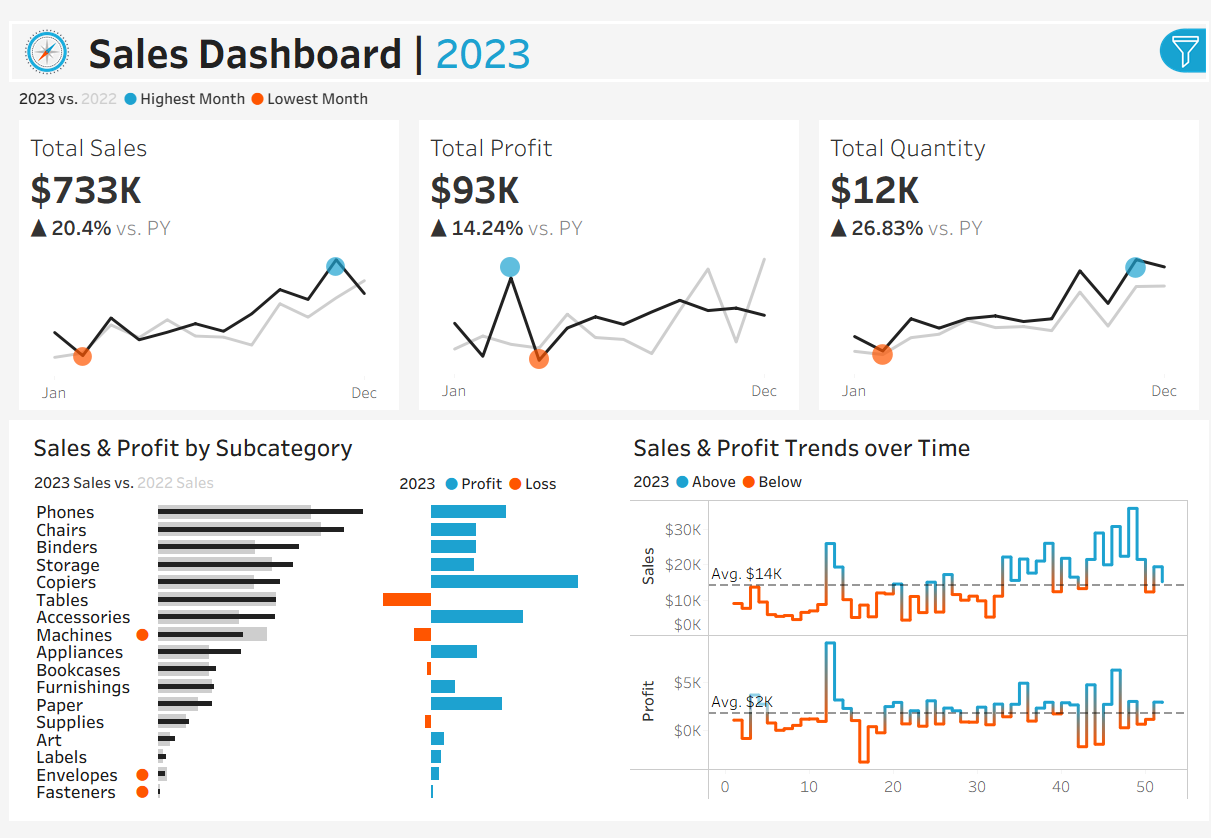

What the dashboard file says about the page in this screenshot:
{"tool":"tableau","page":{"name":"Sales Dashboard","canvas":[1200,800],"ordinal":0},"visuals":[{"type":"image","param":"C:/Users/chira/OneDrive/Desktop/PROJECT/Tableau Projects/sales-dashboard-project","box":[3,3,69,55]},{"type":"text","box":[72,3,826,55]},{"type":"text","box":[934,10,255,85]},{"type":"worksheet","title":"Legend KPI","mark":"Automatic","box":[0,61,1200,38]},{"type":"parameter","param":"[Parameters].[Parameter 1]","box":[934,95,255,56]},{"type":"worksheet","title":"KPI Sales","mark":"Automatic","rows":["Calculation_1053366693937157"],"cols":["Order Date"],"box":[0,99,400,300]},{"type":"worksheet","title":"KPI Profit","mark":"Automatic","rows":["Min/Max Sales (copy)_1150673809801222"],"cols":["Order Date"],"box":[400,99,400,300]},{"type":"worksheet","title":"KPI Quantity","mark":"Automatic","rows":["Calculation_1053366693937157"],"cols":["Order Date"],"box":[800,99,400,300]},{"type":"blank","box":[934,151,255,54]},{"type":"text","box":[934,205,255,33]},{"type":"filter","title":"KPI Sales","param":"[federated.0gbk7bk04domhm1fcnfgo03u82ke].[none:Category:nk]","box":[934,238,255,61]},{"type":"filter","title":"KPI Sales","param":"[federated.0gbk7bk04domhm1fcnfgo03u82ke].[none:Sub-Category:nk]","box":[934,299,255,61]},{"type":"blank","box":[934,360,255,45]},{"type":"text","box":[934,405,255,33]},{"type":"text","box":[17,406,566,40]},{"type":"text","box":[617,406,566,40]},{"type":"filter","title":"KPI Sales","param":"[federated.0gbk7bk04domhm1fcnfgo03u82ke].[none:Region:nk]","box":[934,438,255,61]},{"type":"worksheet","title":"Legend Subcategory","mark":"Automatic","box":[17,446,366,32]},{"type":"text","box":[383,446,200,32]},{"type":"text","box":[617,446,566,29]},{"type":"worksheet","title":"Weekly Trends","mark":"Automatic","rows":["Calculation_1053366687813632","Calculation_1150673802547202"],"cols":["Order Date"],"box":[617,475,566,308]},{"type":"worksheet","title":"Subcategory Comparison","mark":"Bar","rows":["Sub-Category","Calculation_1285639088488448"],"cols":["Current Year Sales (copy)_1053366688313346","Calculation_1053366687813632","Calculation_1150673802547202"],"box":[17,478,566,304.9]},{"type":"filter","title":"KPI Sales","param":"[federated.0gbk7bk04domhm1fcnfgo03u82ke].[none:State:nk]","box":[934,499,255,61]},{"type":"filter","title":"KPI Sales","param":"[federated.0gbk7bk04domhm1fcnfgo03u82ke].[none:City:nk]","box":[934,560,255,61]}]}

Visuals, with their boxes on the page's 1200x800 design canvas (x1, y1, x2, y2). These are canvas units, not pixel positions in the 1211x838 screenshot, which may show the page scaled, cropped or inside an application window:
image: [3, 3, 72, 58]
text: [72, 3, 898, 58]
text: [934, 10, 1189, 95]
"Legend KPI" worksheet: [0, 61, 1200, 99]
parameter: [934, 95, 1189, 151]
"KPI Sales" worksheet: [0, 99, 400, 399]
"KPI Profit" worksheet: [400, 99, 800, 399]
"KPI Quantity" worksheet: [800, 99, 1200, 399]
blank: [934, 151, 1189, 205]
text: [934, 205, 1189, 238]
"KPI Sales" filter: [934, 238, 1189, 299]
"KPI Sales" filter: [934, 299, 1189, 360]
blank: [934, 360, 1189, 405]
text: [934, 405, 1189, 438]
text: [17, 406, 583, 446]
text: [617, 406, 1183, 446]
"KPI Sales" filter: [934, 438, 1189, 499]
"Legend Subcategory" worksheet: [17, 446, 383, 478]
text: [383, 446, 583, 478]
text: [617, 446, 1183, 475]
"Weekly Trends" worksheet: [617, 475, 1183, 783]
"Subcategory Comparison" worksheet (Bar marks): [17, 478, 583, 783]
"KPI Sales" filter: [934, 499, 1189, 560]
"KPI Sales" filter: [934, 560, 1189, 621]
